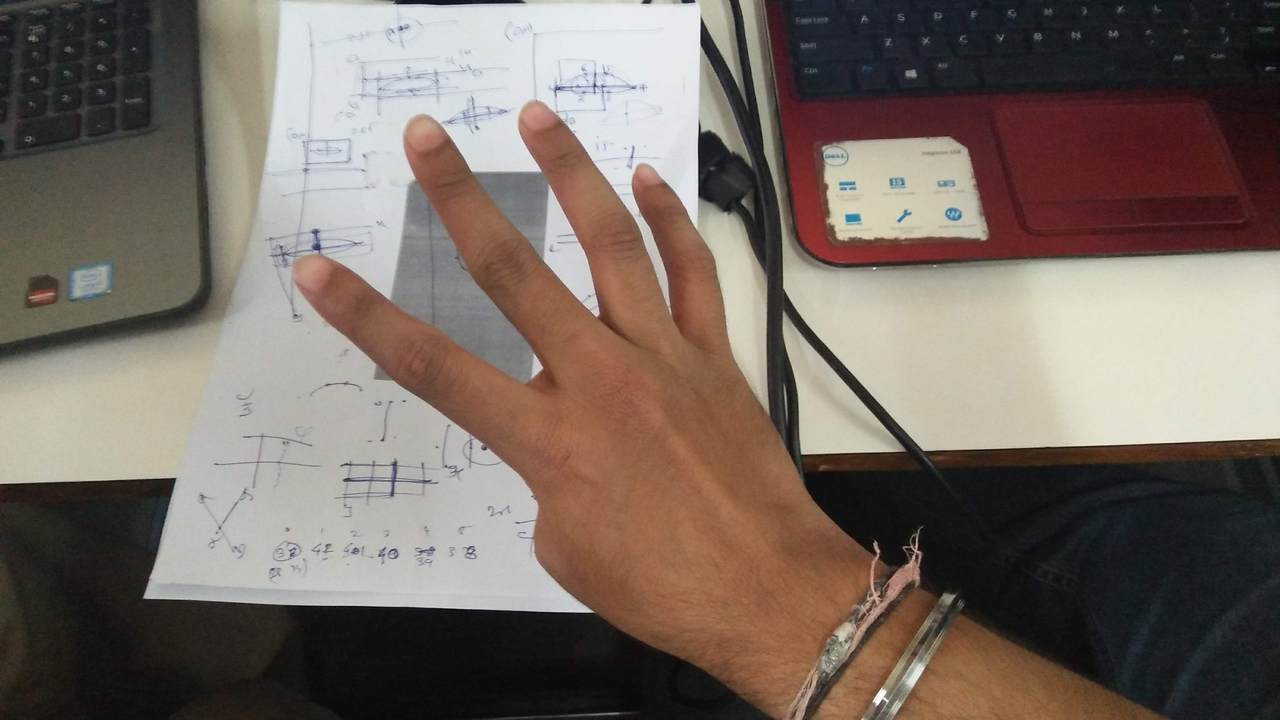fingertip: (286, 247, 340, 298), (394, 110, 452, 156), (506, 96, 566, 140), (624, 158, 680, 202)
